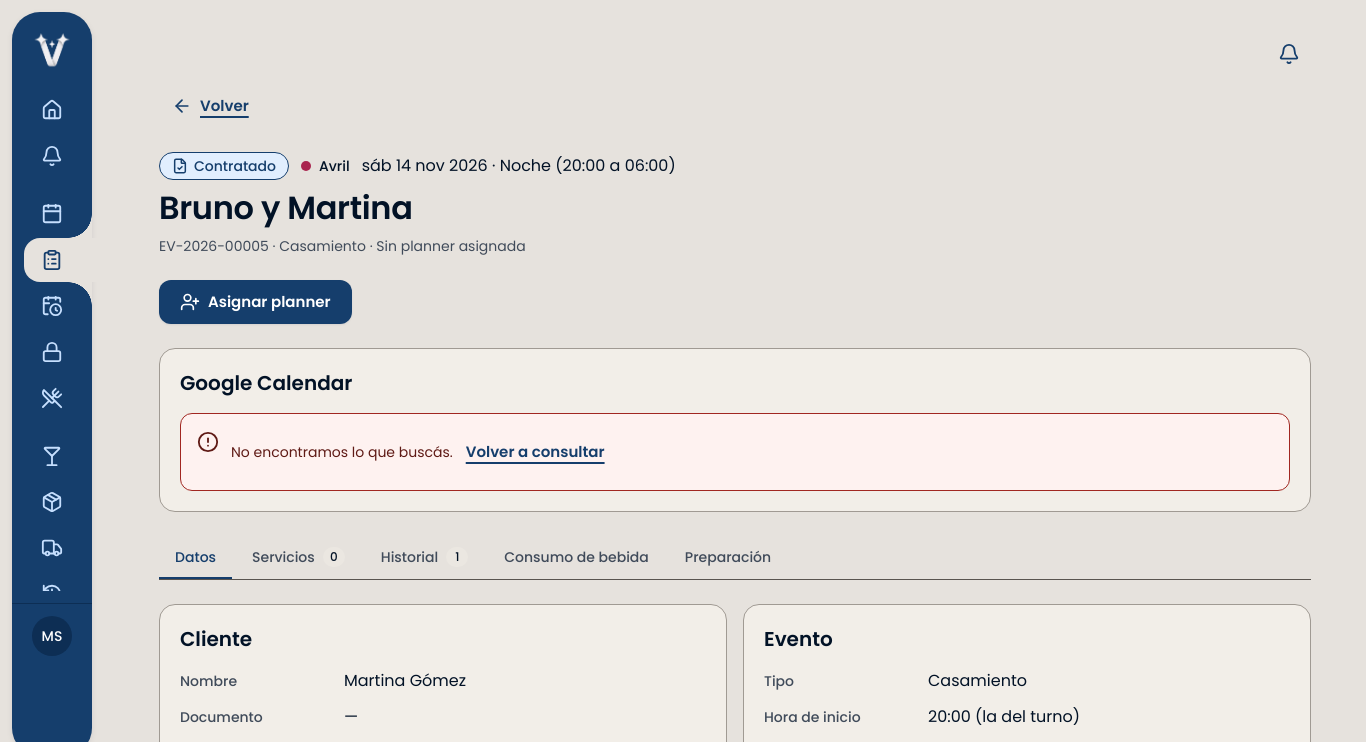
Scenario: UI-16 · asignar planner › asigna una planner y la ficha la muestra
Click the button "Asignar planner" at (255, 302), box [159,280,352,324]
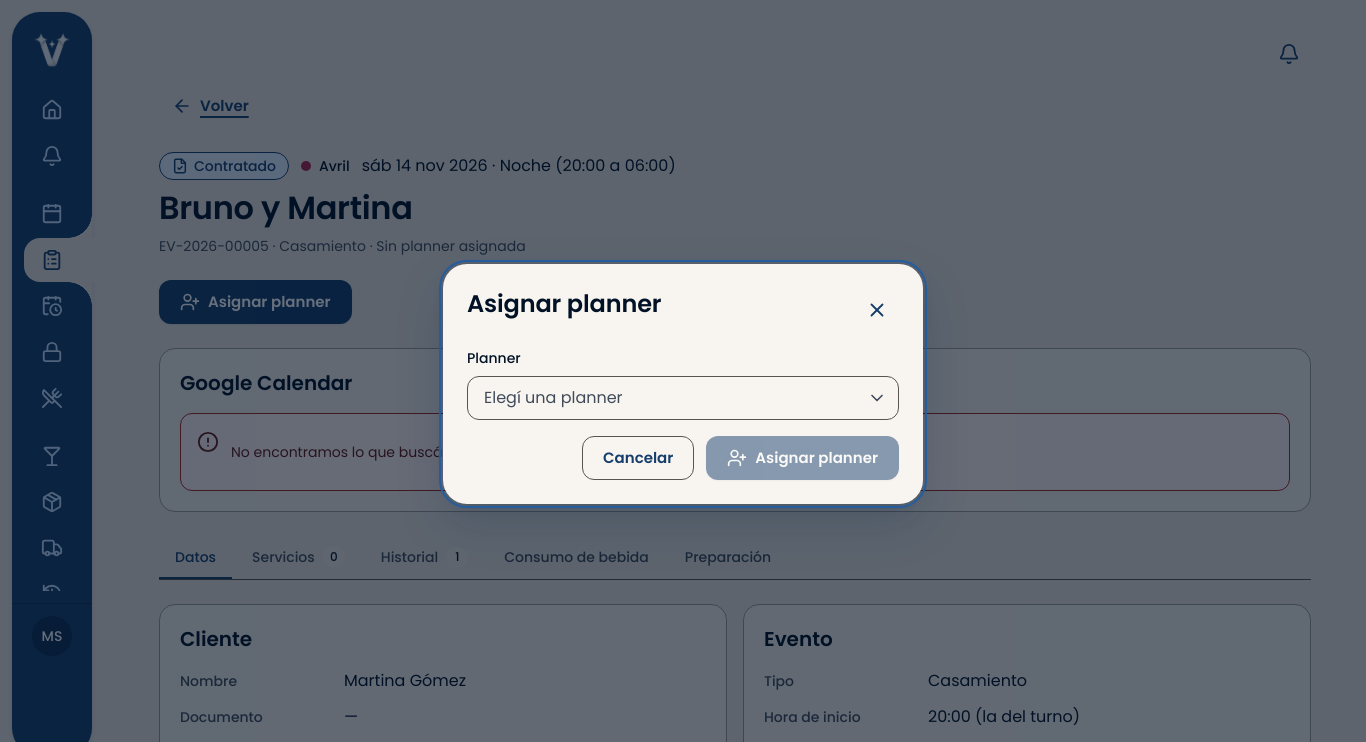
Select "Carla Núñez" in the dropdown labelled "Planner" at (683, 398), box [467,376,899,420]
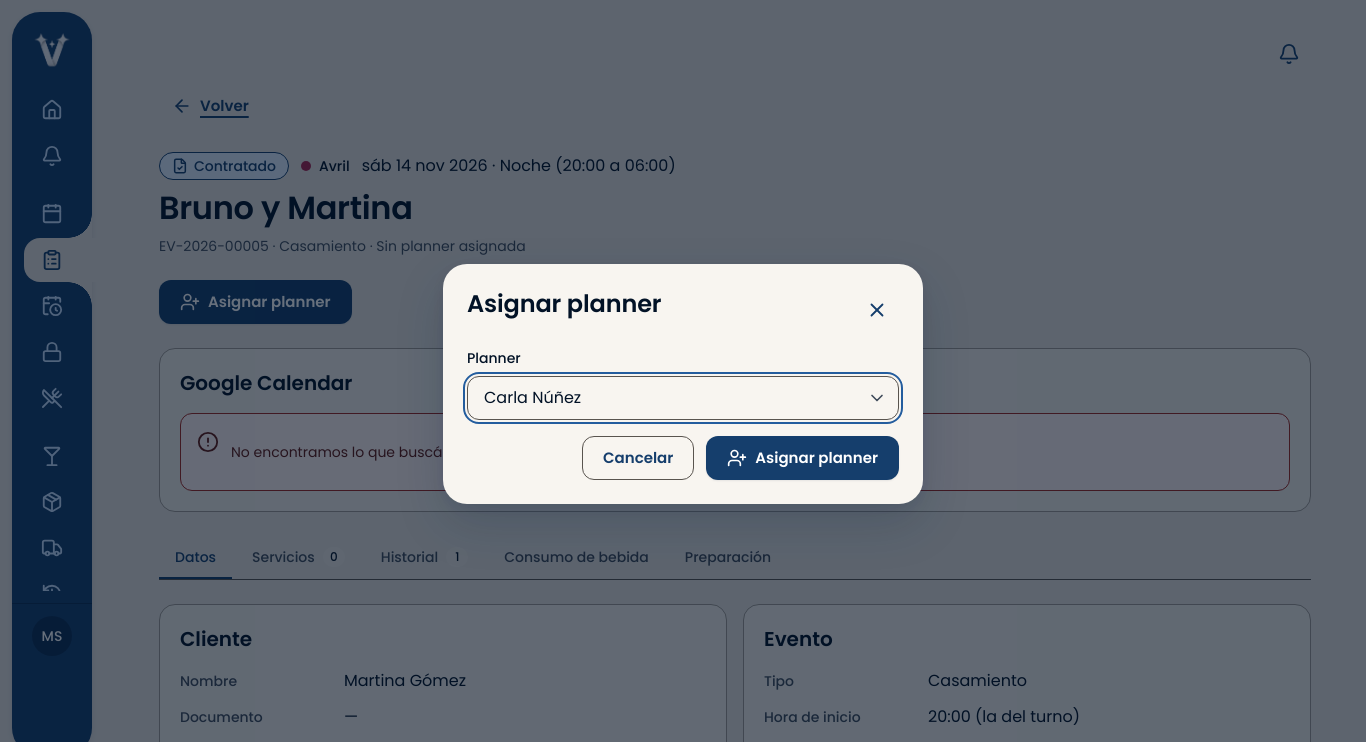
Click the button "Asignar planner" at (803, 458), box [706,436,899,480]
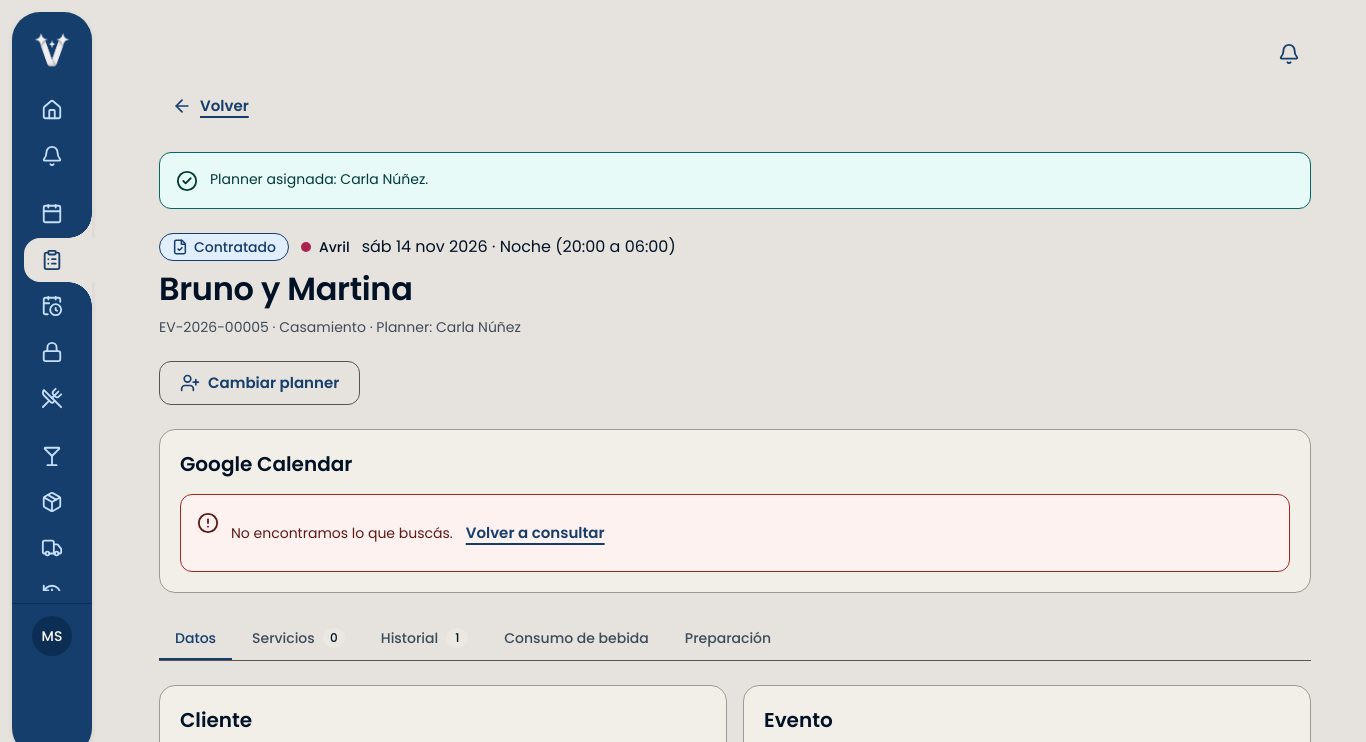
Now the text "Planner asignada: Carla Núñez." is shown, box [210,169,428,189]
Now the button "Cambiar planner" is shown, box [159,361,360,405]
